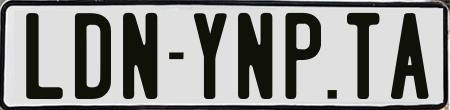A: (390, 12, 429, 101)
D: (72, 13, 113, 105)
L: (26, 11, 68, 100)
N: (121, 12, 156, 104), (235, 11, 270, 101)
P: (284, 10, 323, 102)
T: (346, 11, 383, 100)
Y: (192, 10, 225, 96)
